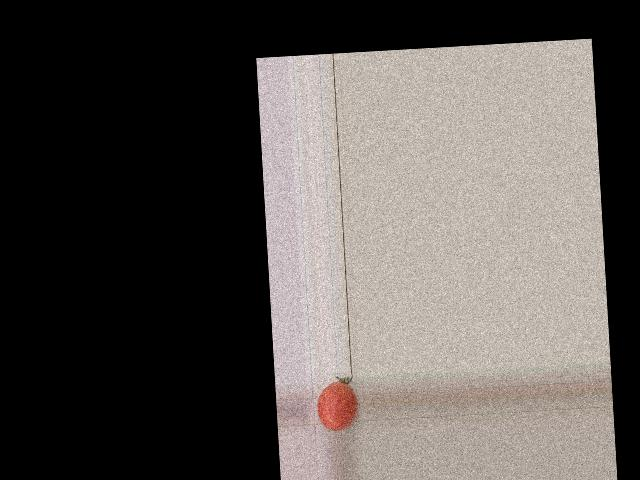tomato: (315, 380, 358, 431)
